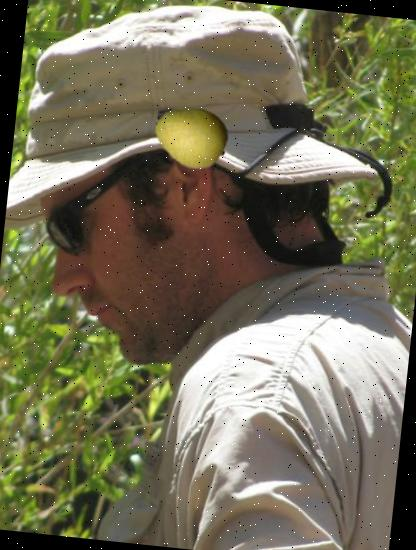Pear: (148, 94, 232, 179)
